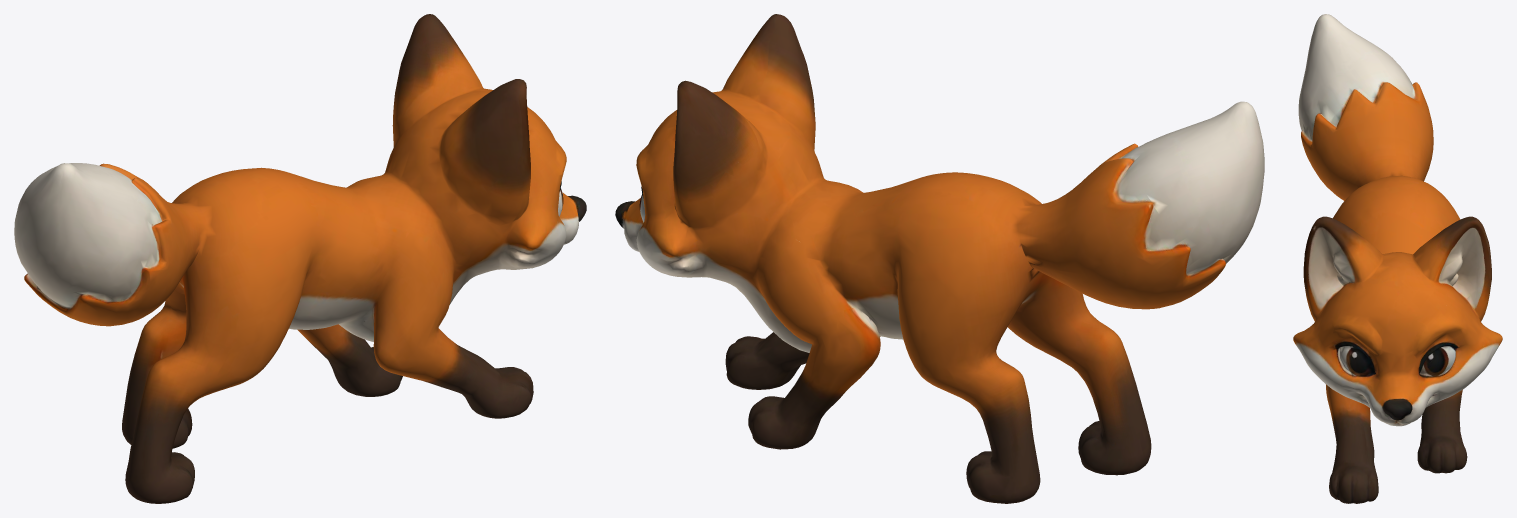
File: fox.glb
3 views of the same model, side by side, from view 1: azimuth 30°, elevation 25°; view 2: azimuth 150°, elevation 25°; view 3: azimuth 270°, elevation 25° (orthographic). The views are drawn at different scales.
Visible parts, largest first — view 1: tripo_node_c180aaf0-4c10-408a-82ad-aef84eea4476; view 2: tripo_node_c180aaf0-4c10-408a-82ad-aef84eea4476; view 3: tripo_node_c180aaf0-4c10-408a-82ad-aef84eea4476.
Boxes of the visible parts, x1,y1,x2,y2 form: tripo_node_c180aaf0-4c10-408a-82ad-aef84eea4476: [14, 14, 586, 503]; tripo_node_c180aaf0-4c10-408a-82ad-aef84eea4476: [615, 14, 1264, 503]; tripo_node_c180aaf0-4c10-408a-82ad-aef84eea4476: [1293, 14, 1502, 503].
Bounding box in the file's own units: 1 × 0.5966 × 0.3761.
Materials: 1 (1 with a texture image).
